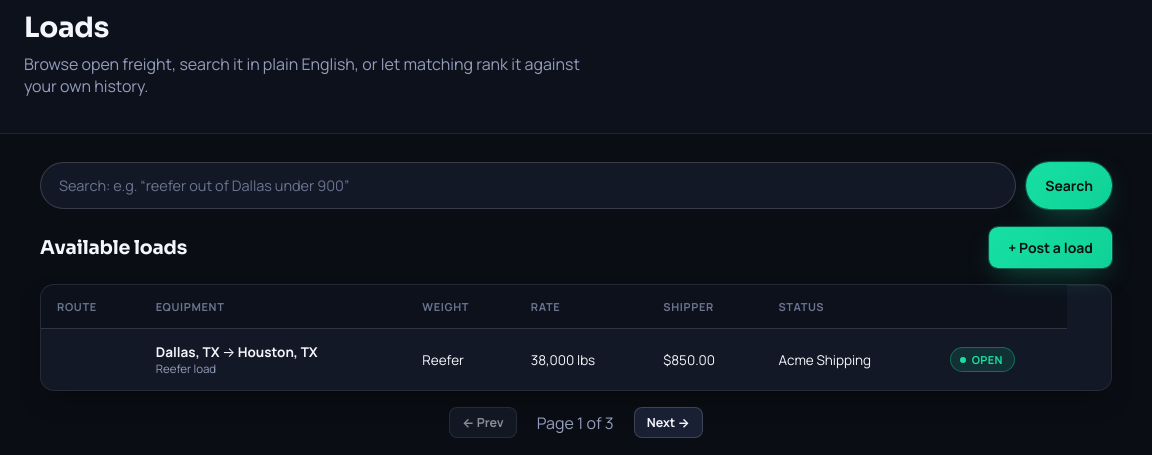
Test: LoadsPage — pagination › Next/Prev walk pages and fetch with the right page number, disabling at both ends
Check: the text "Page 1 of 3" is shown, box [537, 412, 614, 434]
Step 1. Click the button "Next →" → (668, 422), box [634, 407, 703, 438]
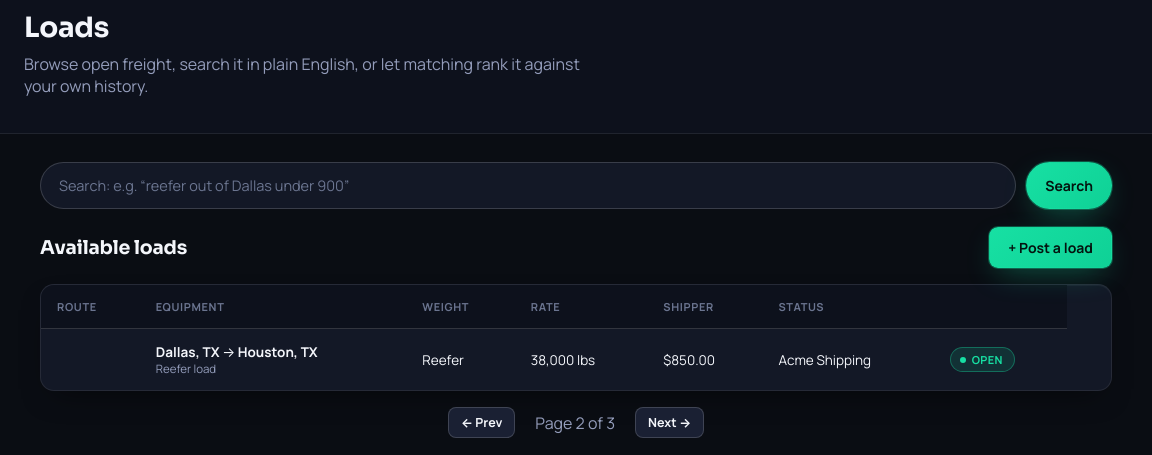
Check: the text "Page 2 of 3" is shown, box [535, 412, 615, 434]
Check: the button "← Prev" is enabled, box [448, 407, 515, 438]
Step 2. Click the button "Next →" → (670, 422), box [635, 407, 704, 438]
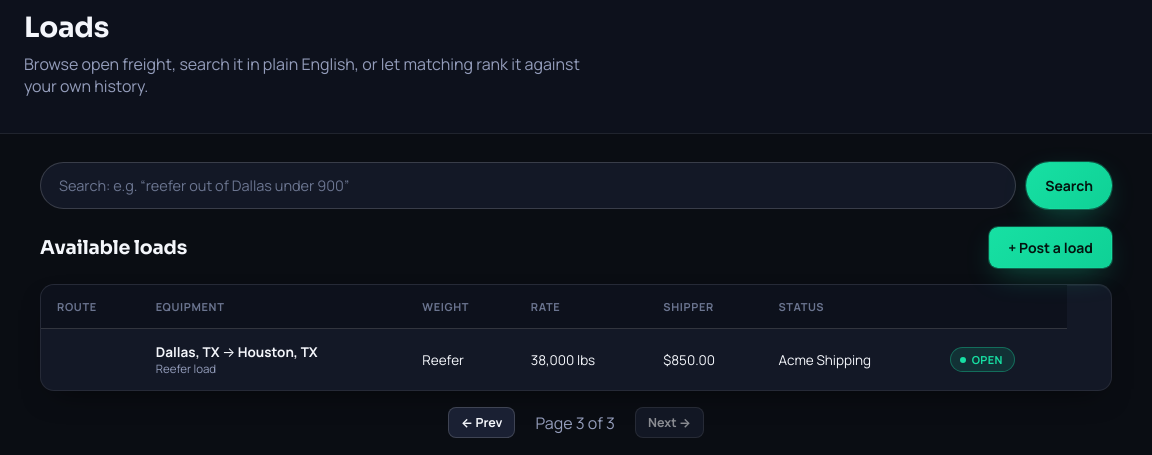
Check: the text "Page 3 of 3" is shown, box [536, 412, 615, 434]
Check: the button "Next →" is disabled, box [635, 407, 704, 438]
Step 3. Click the button "← Prev" → (482, 422), box [448, 407, 516, 438]
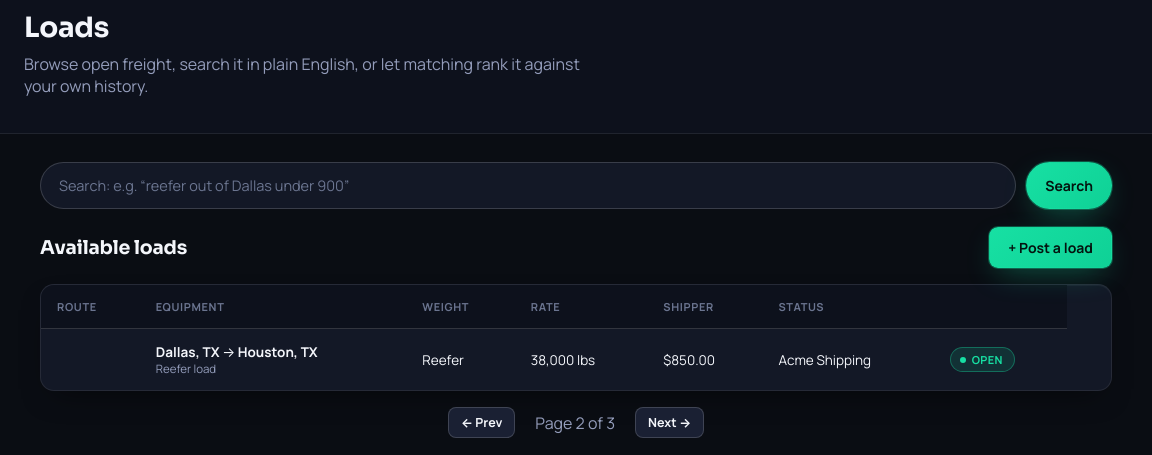
Check: the text "Page 2 of 3" is shown, box [535, 412, 615, 434]
